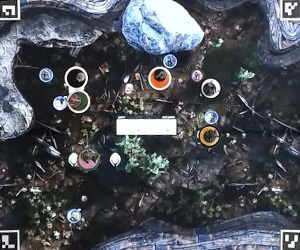black: (65, 67, 88, 90)
green: (68, 90, 91, 113)
orange: (150, 67, 173, 90)
pink_green: (78, 150, 101, 173)
white: (202, 77, 225, 100)
yellow_night_blue: (195, 125, 218, 148)
